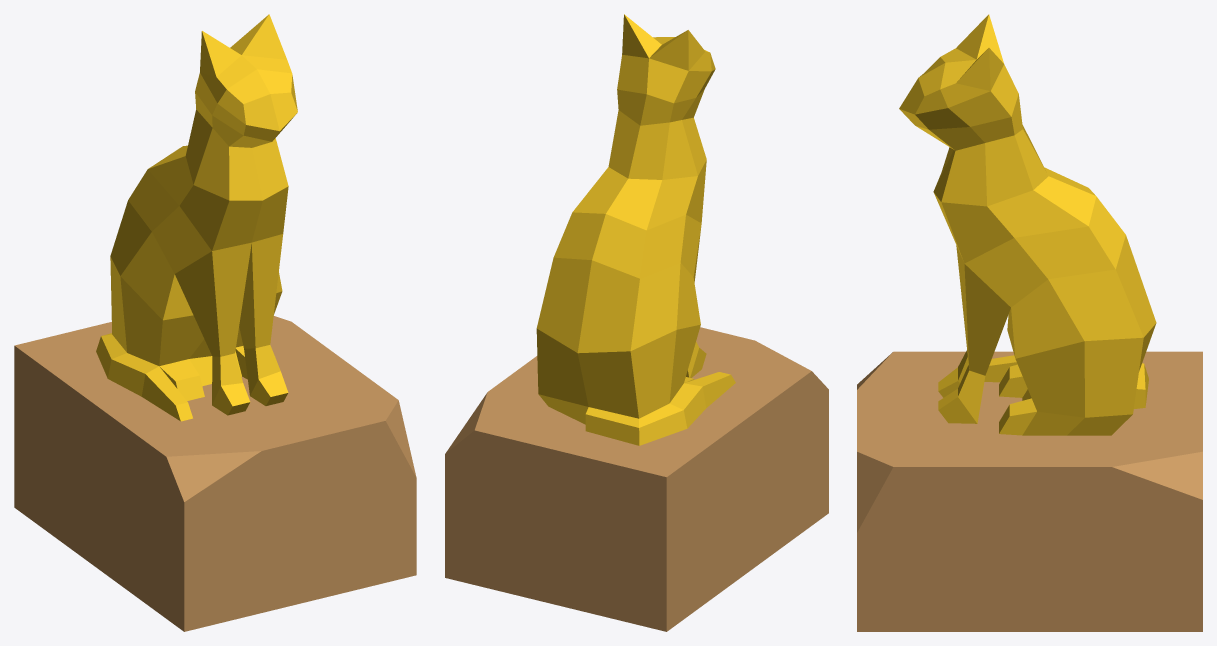
Rendered from egypt-statue-cat.glb.
3 views of the same model, side by side, from view 1: azimuth 30°, elevation 25°; view 2: azimuth 150°, elevation 25°; view 3: azimuth 270°, elevation 25° (orthographic). The views are drawn at different scales.
Parts seen in each view (by area): view 1: egypt-statue-cat; view 2: egypt-statue-cat; view 3: egypt-statue-cat.
Boxes of the visible parts, box(x1,y1,x2,y2) form: egypt-statue-cat: box(14, 14, 416, 631); egypt-statue-cat: box(445, 14, 828, 631); egypt-statue-cat: box(857, 14, 1202, 631).
Bounding box in the file's own units: 2.7 × 5.93 × 3.42.
Materials: 1 (1 with a texture image).
